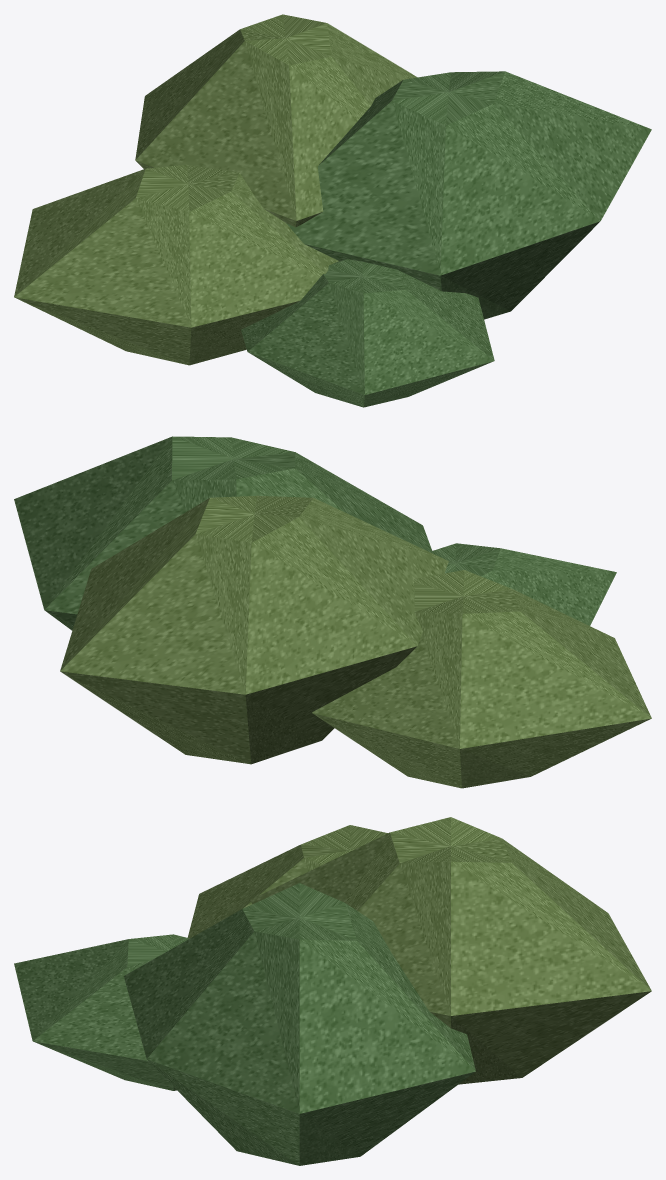
The model's file is bush_low.glb.
3 renders of one model, top to bottom at view 1: azimuth 30°, elevation 25°; view 2: azimuth 150°, elevation 25°; view 3: azimuth 270°, elevation 25°, orthographic. The views are drawn at different scales.
Parts seen in each view (by area): view 1: outdoor_bush_low; view 2: outdoor_bush_low; view 3: outdoor_bush_low.
Boxes of the visible parts, box(x1,y1,x2,y2) form: outdoor_bush_low: box(14, 14, 651, 407); outdoor_bush_low: box(14, 436, 651, 788); outdoor_bush_low: box(14, 817, 651, 1165).
Bounding box in the file's own units: 1.7 × 0.65 × 1.45.
Materials: 1 (1 with a texture image).
